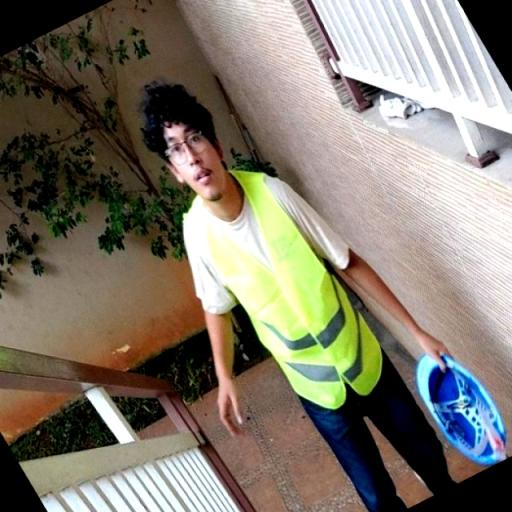Person: (126, 61, 512, 512)
helmet: (410, 350, 504, 469)
none: (138, 72, 238, 207), (210, 371, 262, 445), (415, 323, 458, 367)
vest: (176, 168, 384, 418)
